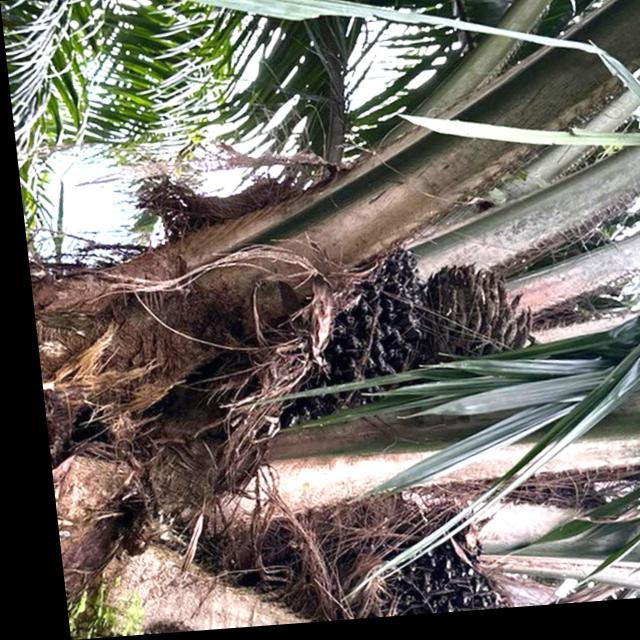unripe: (224, 245, 435, 431), (311, 505, 498, 623)
